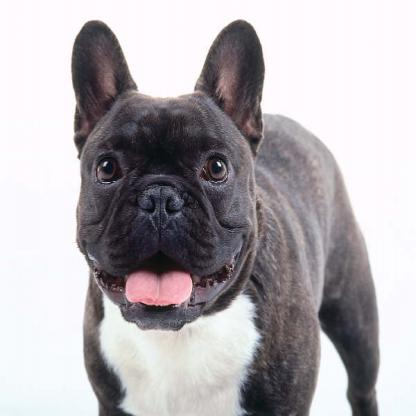French_bulldog: (67, 16, 380, 414)
